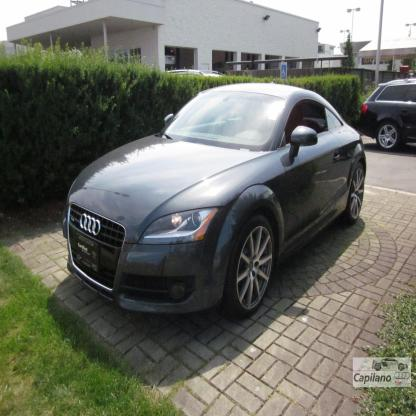Vehicle: (63, 84, 366, 322)
